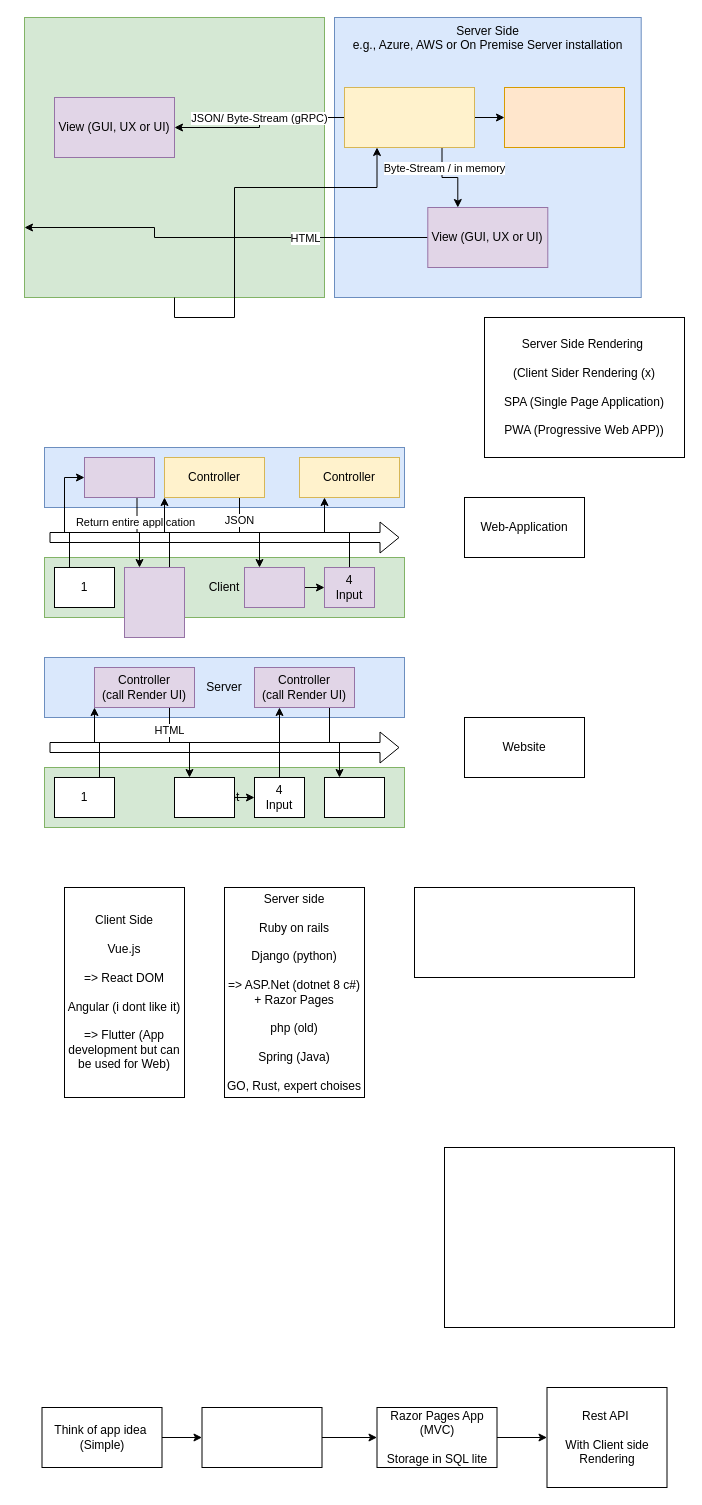
Image size: 702x1505. Some labels were removed from this diagram. The shapes that lost their labels are listed below. From the top down, each one's box as (x1, y1, x2, y2) in pixels, then its label:
(344, 86, 474, 148): Controller (Run Calc, other logic)
(504, 86, 624, 148): Model (Database)
(24, 16, 324, 298): Client Side e.g., Browser (Firefox, Chrome), iOS/Android App
(84, 456, 154, 498): wwwroot
(124, 566, 184, 638): 2 runs application (Javascript)
(244, 566, 304, 608): 3 Render UI
(174, 776, 234, 818): 3 Display UI
(324, 776, 384, 818): 4 display new site
(414, 886, 634, 978): Server Side Rendered SPA Not of your concern in 1 year
(444, 1146, 674, 1328): Terms next time: DI (Dependecy Injection) Request Pipeline / Middleware
(201, 1406, 322, 1468): Razor Pages App (MVC) Storage in-memory
